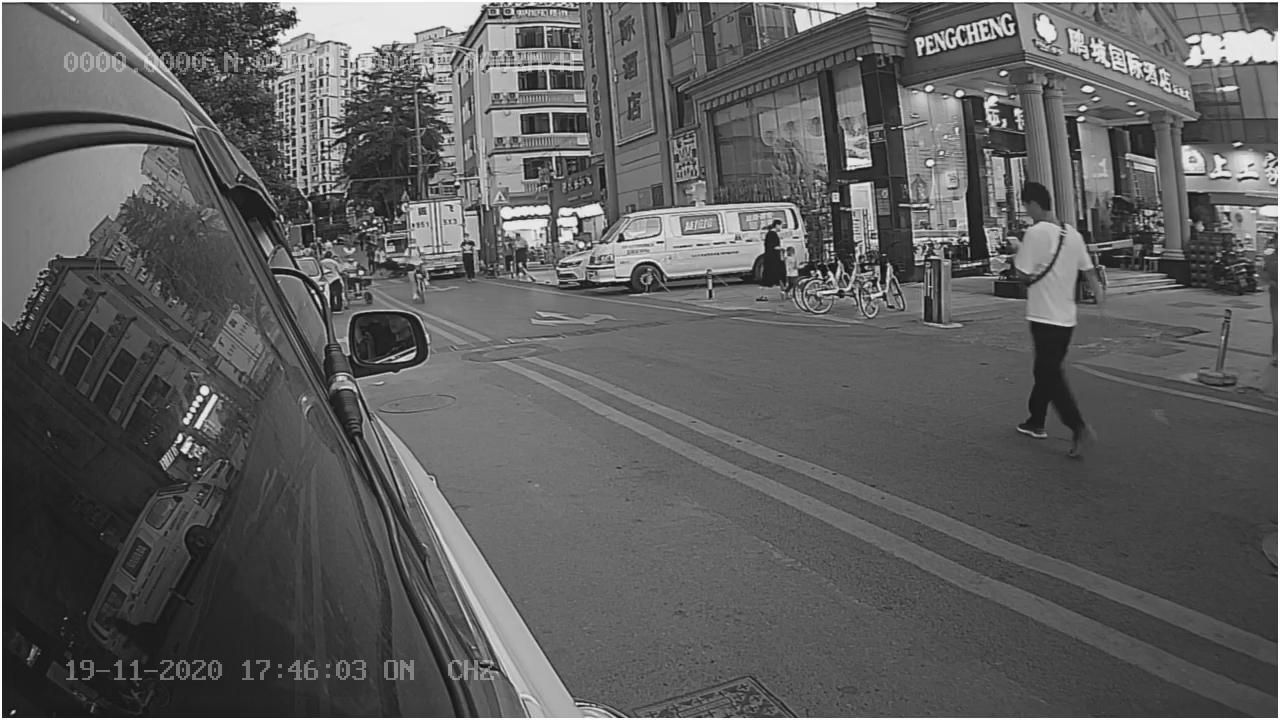person: (1004, 182, 1111, 464)
